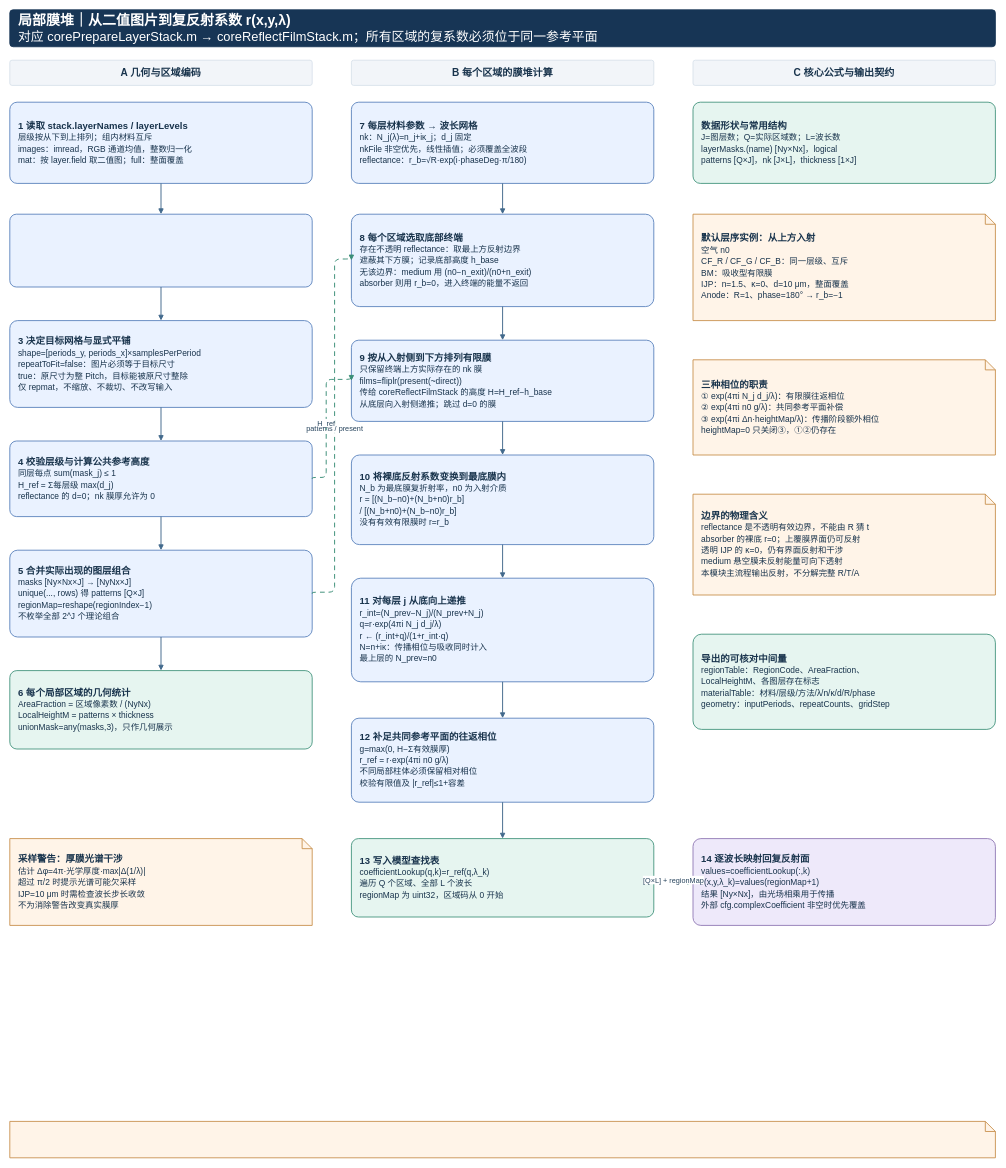
This 1006x1168 diagram has some shape labels left out. The centre of each missing label's shape, as x and y in pixels:
"2 二值化与方向 mask_j = xor(value > threshold, invert) MAT 输入要求原值为 0/1 所有图片尺寸、原点一致" belongs at [160,250].
"阅读提示 主入口先构造所有局部膜堆系数，再进入高度状态和逐波长传播。材料数组给出的 κ 对应源码中的 k，图中写 κ 以免与波长索引 k 混淆。" belongs at [502,1139].
